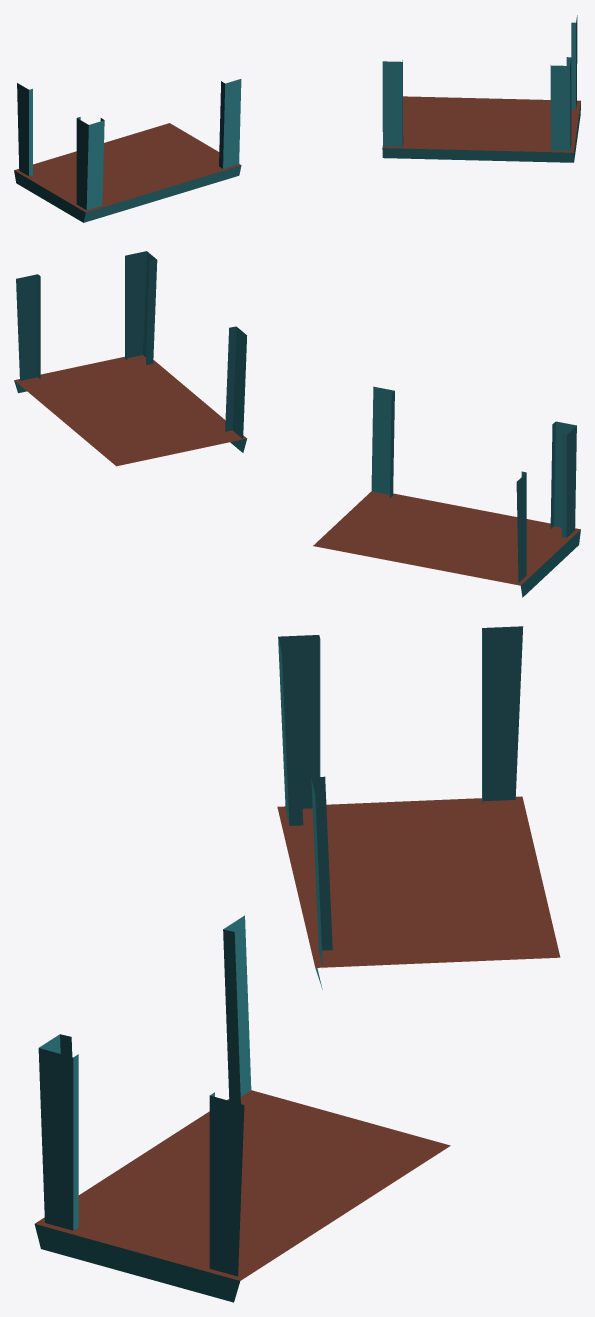
File: DisneyStoreWoodWalls.fbx
3 views of the same model, one above another, from view 1: azimuth 30°, elevation 25°; view 2: azimuth 150°, elevation 25°; view 3: azimuth 270°, elevation 25° (orthographic). The views are drawn at different scales.
Parts seen in each view (by area): view 1: DisneyStoreWoodWalls; view 2: DisneyStoreWoodWalls; view 3: DisneyStoreWoodWalls.
Boxes of the visible parts, x1,y1,x2,y2 form: DisneyStoreWoodWalls: (14, 15, 580, 222); DisneyStoreWoodWalls: (14, 251, 580, 597); DisneyStoreWoodWalls: (34, 626, 560, 1302).
Bounding box in the file's own units: 1017 × 193 × 466.
